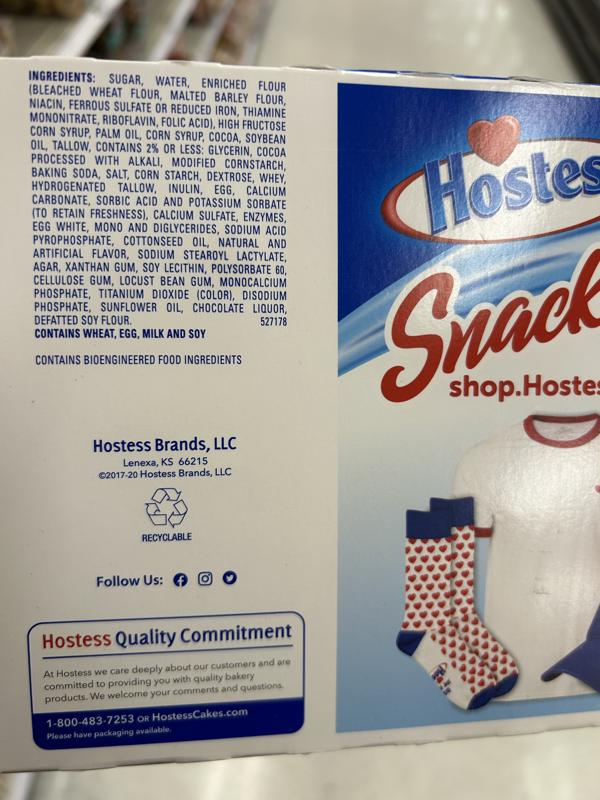ingredients: (25, 67, 291, 328)
